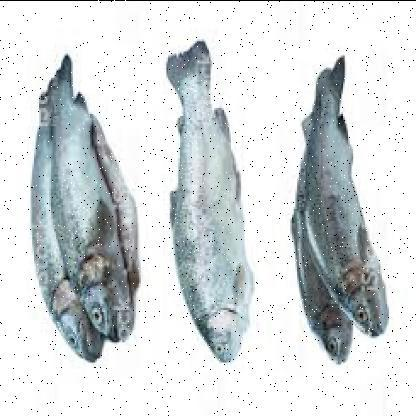fish: (163, 40, 255, 361), (44, 56, 137, 340), (302, 54, 386, 336), (29, 90, 105, 360), (288, 109, 354, 363)
